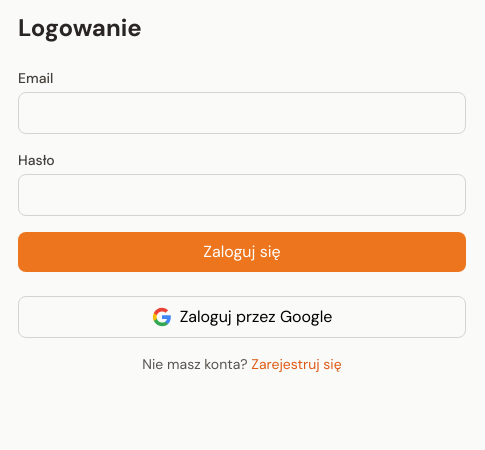
Test: Login › should display error message on login failure
The image size is (485, 450).
Type "test@example.com" into the field.
click(242, 113); type("test@example.com")  # box [18,92,466,134]
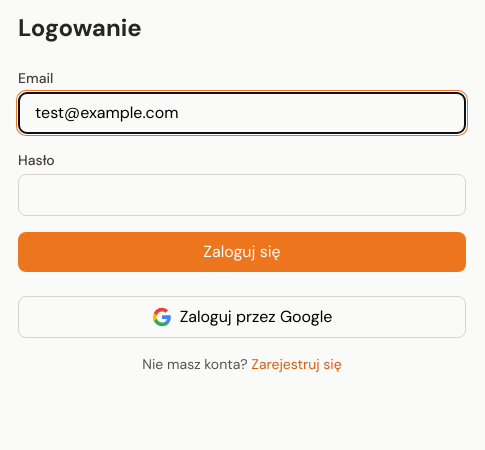
Type "wrongpassword" into the password field.
click(242, 195); type("wrongpassword")  # box [18,174,466,216]
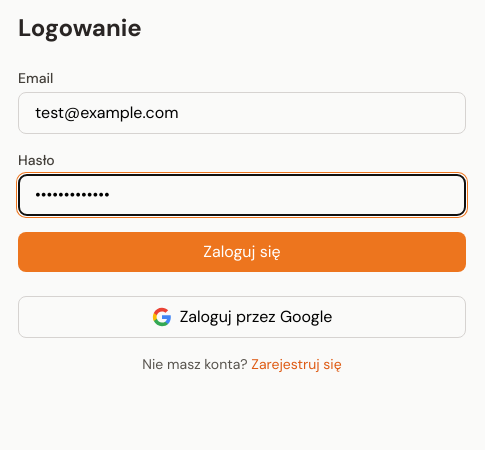
Click the button "Zaloguj się".
click(242, 252)  # box [18,232,466,272]
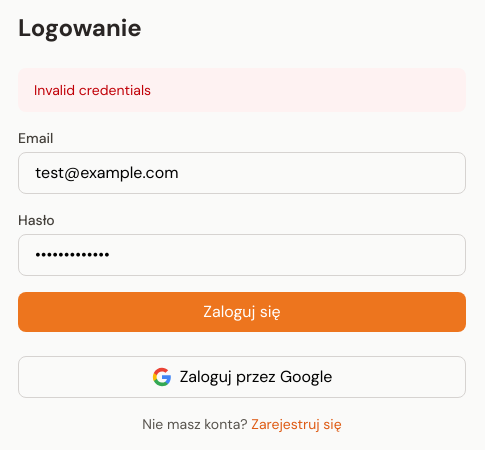
expect the text "Invalid credentials" is shown: met, box [18,68,466,112]
